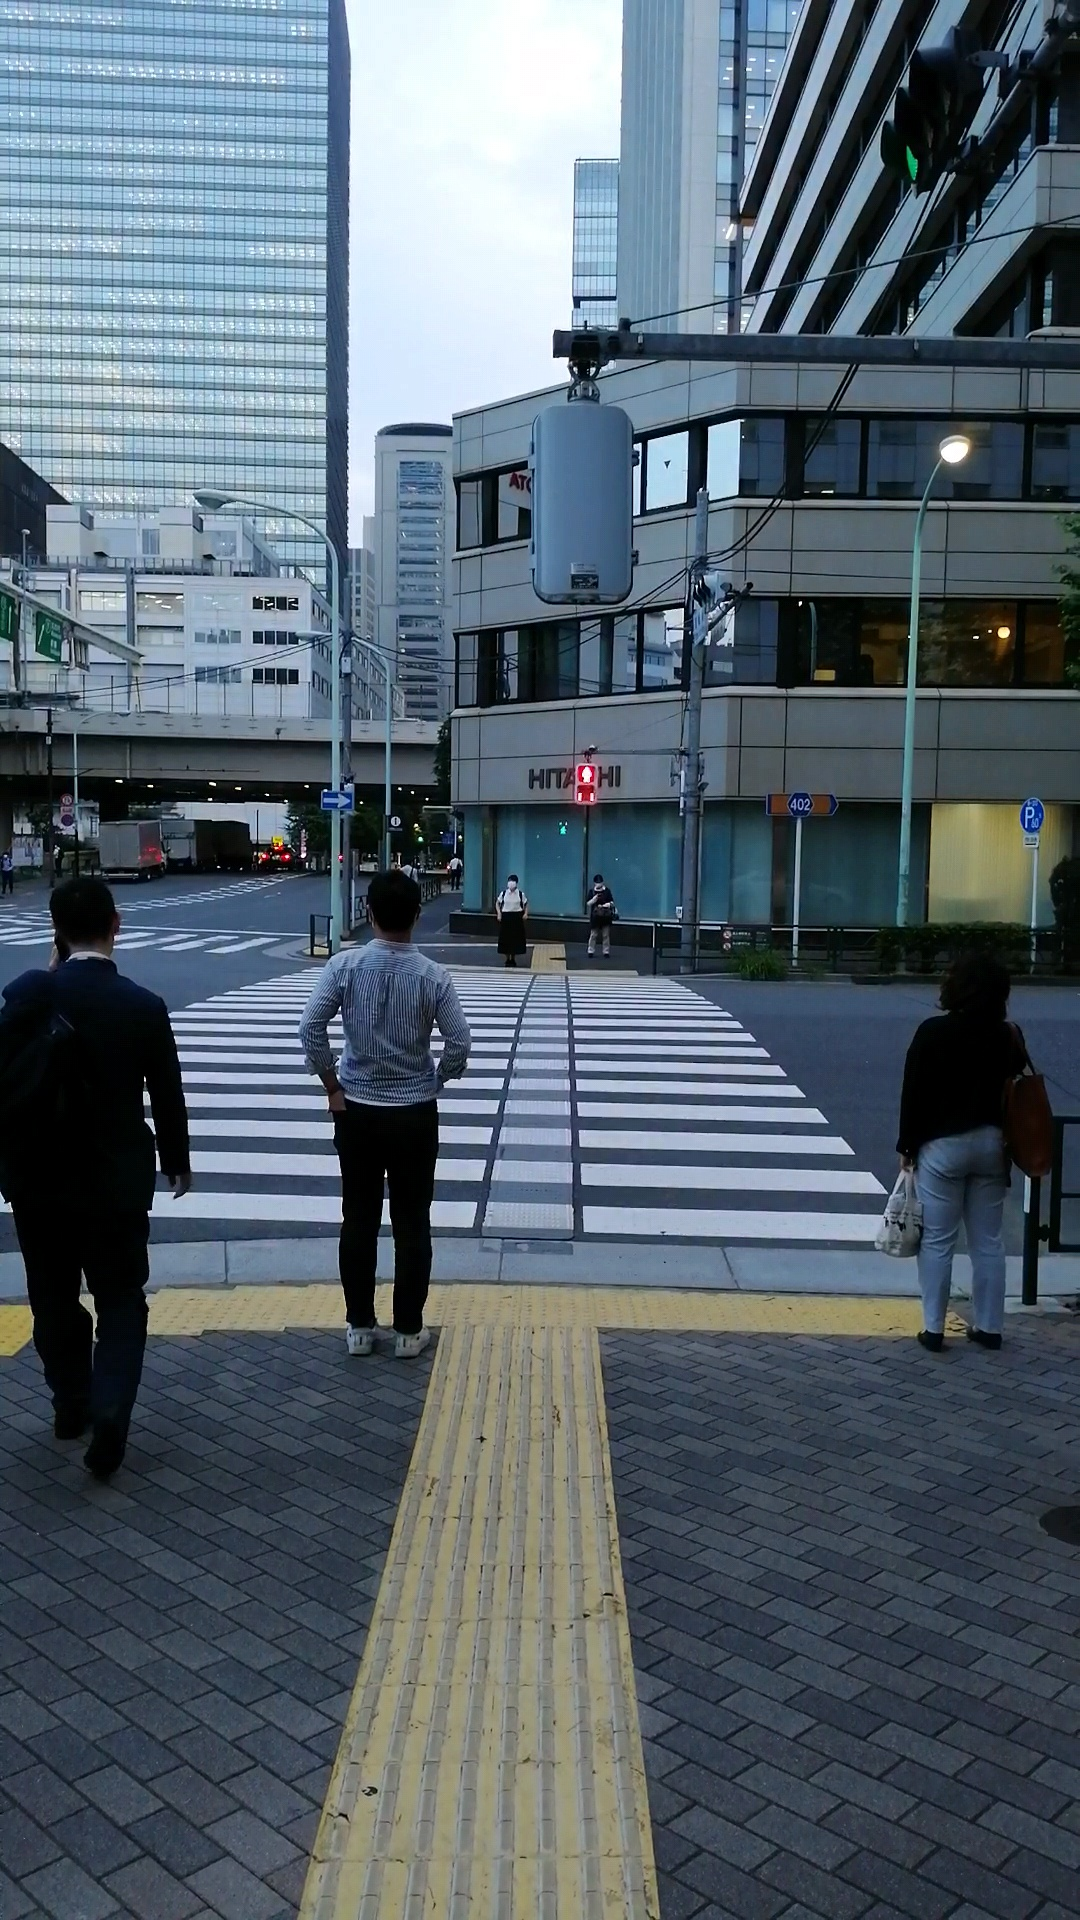red: (572, 761, 597, 804)
